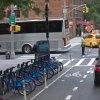Bus: (2, 17, 71, 55)
